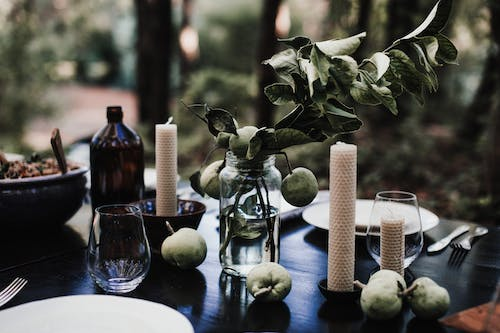knife: (425, 224, 470, 254)
